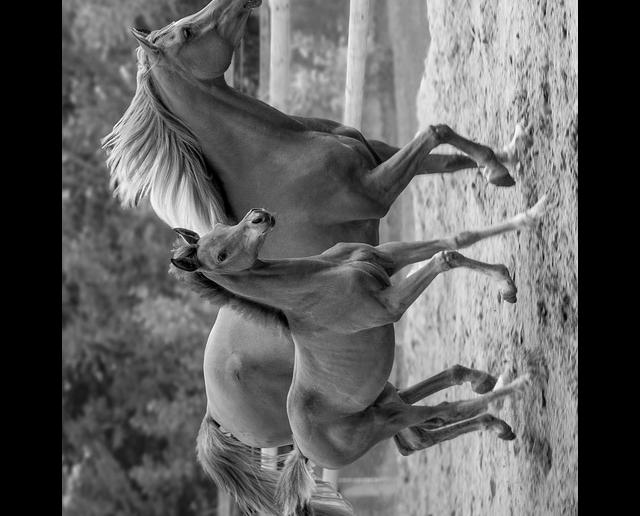Non_Gorille: (86, 0, 536, 516)
